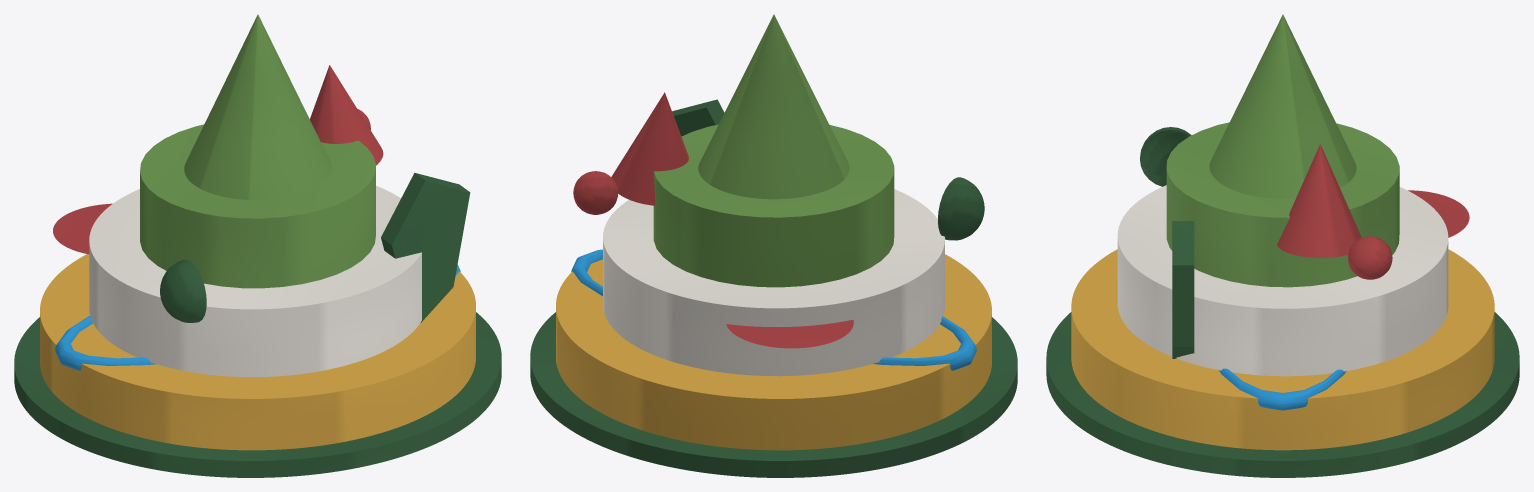
File: 0632_地貌图鉴_巨人之路.glb
The picture shows the model from 3 angles, left to right: view 1: azimuth 30°, elevation 25°; view 2: azimuth 150°, elevation 25°; view 3: azimuth 270°, elevation 25°; orthographic projection.
Parts seen in each view (by area): view 1: card_0632; view 2: card_0632; view 3: card_0632.
Part boxes in pixels (left/top/right/bottom): card_0632: left=14, top=14, right=501, bottom=477; card_0632: left=530, top=14, right=1017, bottom=477; card_0632: left=1046, top=14, right=1519, bottom=477.
Bounding box in the file's own units: 1.23 × 1 × 1.19.
